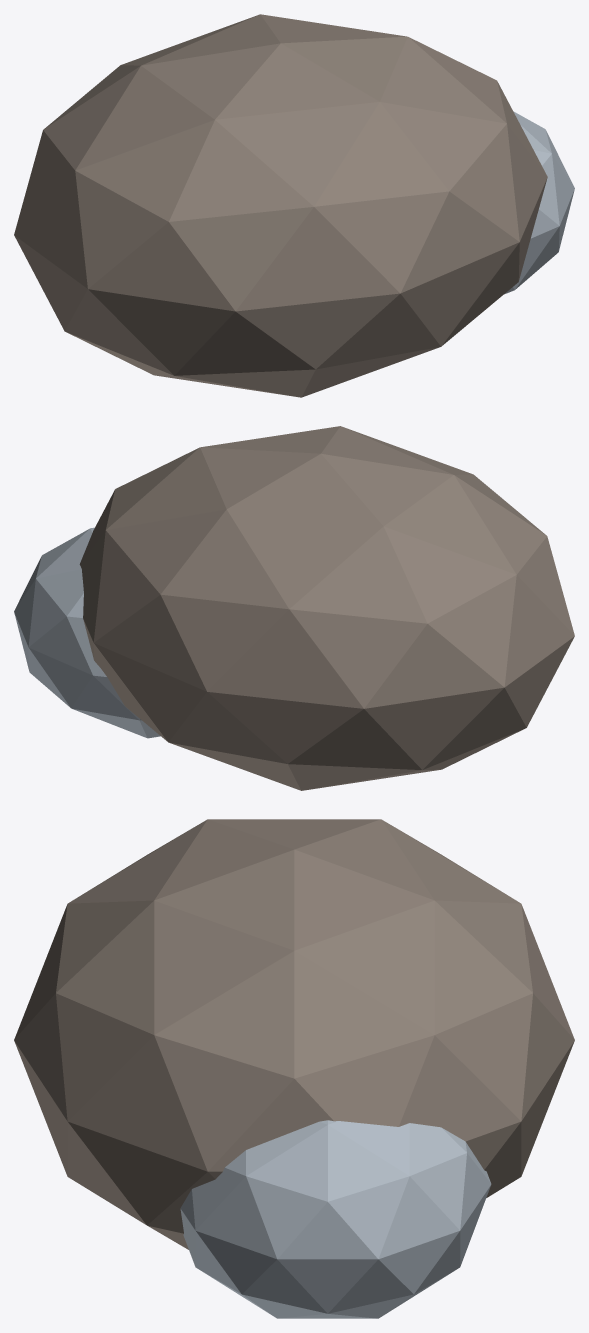
The model's file is RockClimbing_Rock.fbx.
The picture shows the model from 3 angles, top to bottom: view 1: azimuth 30°, elevation 25°; view 2: azimuth 150°, elevation 25°; view 3: azimuth 270°, elevation 25°; orthographic projection. The views are drawn at different scales.
Parts seen in each view (by area): view 1: Rock; view 2: Rock; view 3: Rock.
Part boxes in pixels (x1,y1,x2,y2): Rock: (14,14,574,397); Rock: (14,426,574,790); Rock: (14,819,574,1318).
Bounding box in the file's own units: 2.09 × 1.26 × 1.68.
